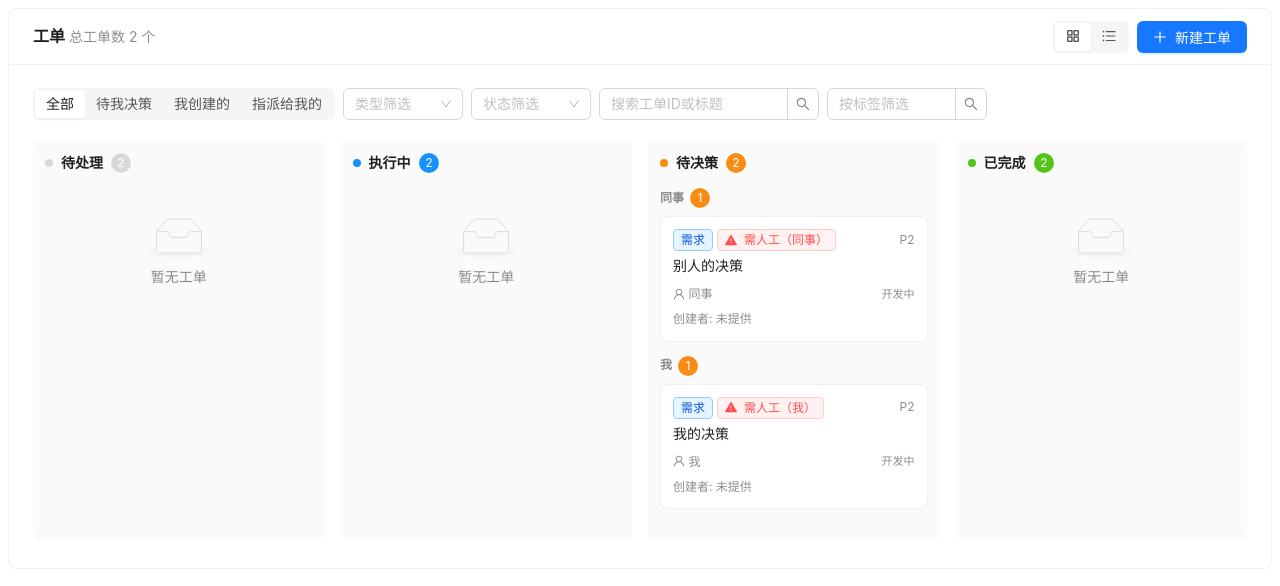
Test: WorkitemListPage › requests only my pending decisions through the server filter and remembers it
expect the text "我的决策" is shown: met, box x1=673 y1=425 x2=729 y2=442
expect the text "别人的决策" is shown: met, box x1=673 y1=257 x2=743 y2=274
Click the text "待我决策" at {"x": 124, "y": 104}, box x1=96 y1=95 x2=152 y2=112
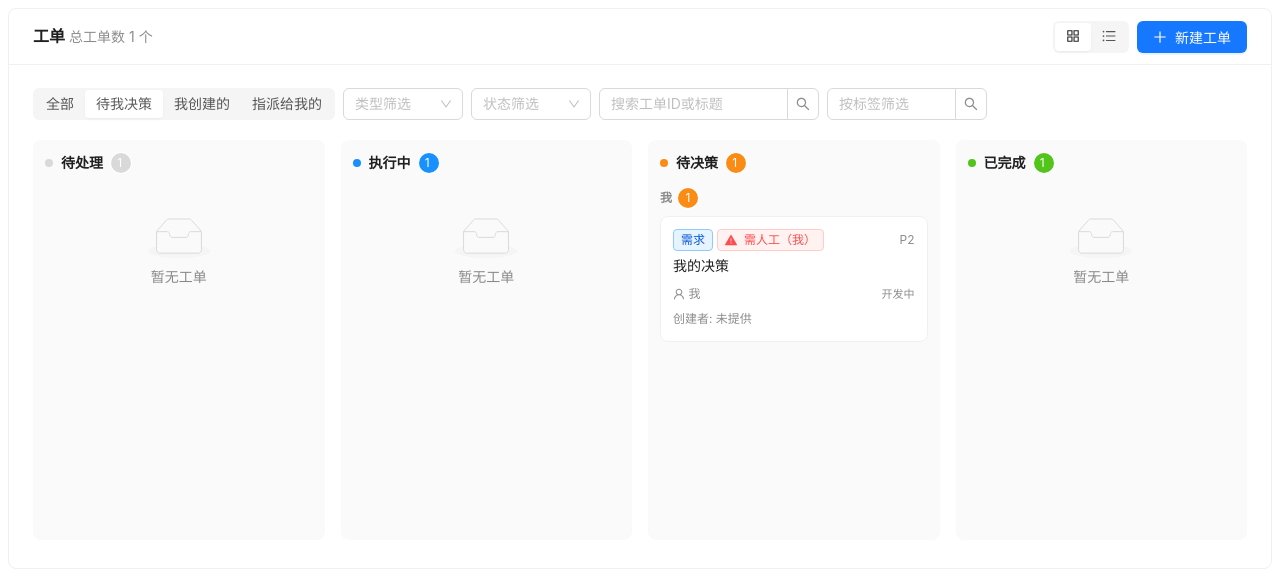
expect the text "我的决策" is shown: met, box x1=673 y1=257 x2=729 y2=274
expect the text "别人的决策" is gone: met
